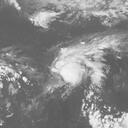cyclone: (56, 58, 85, 87)
